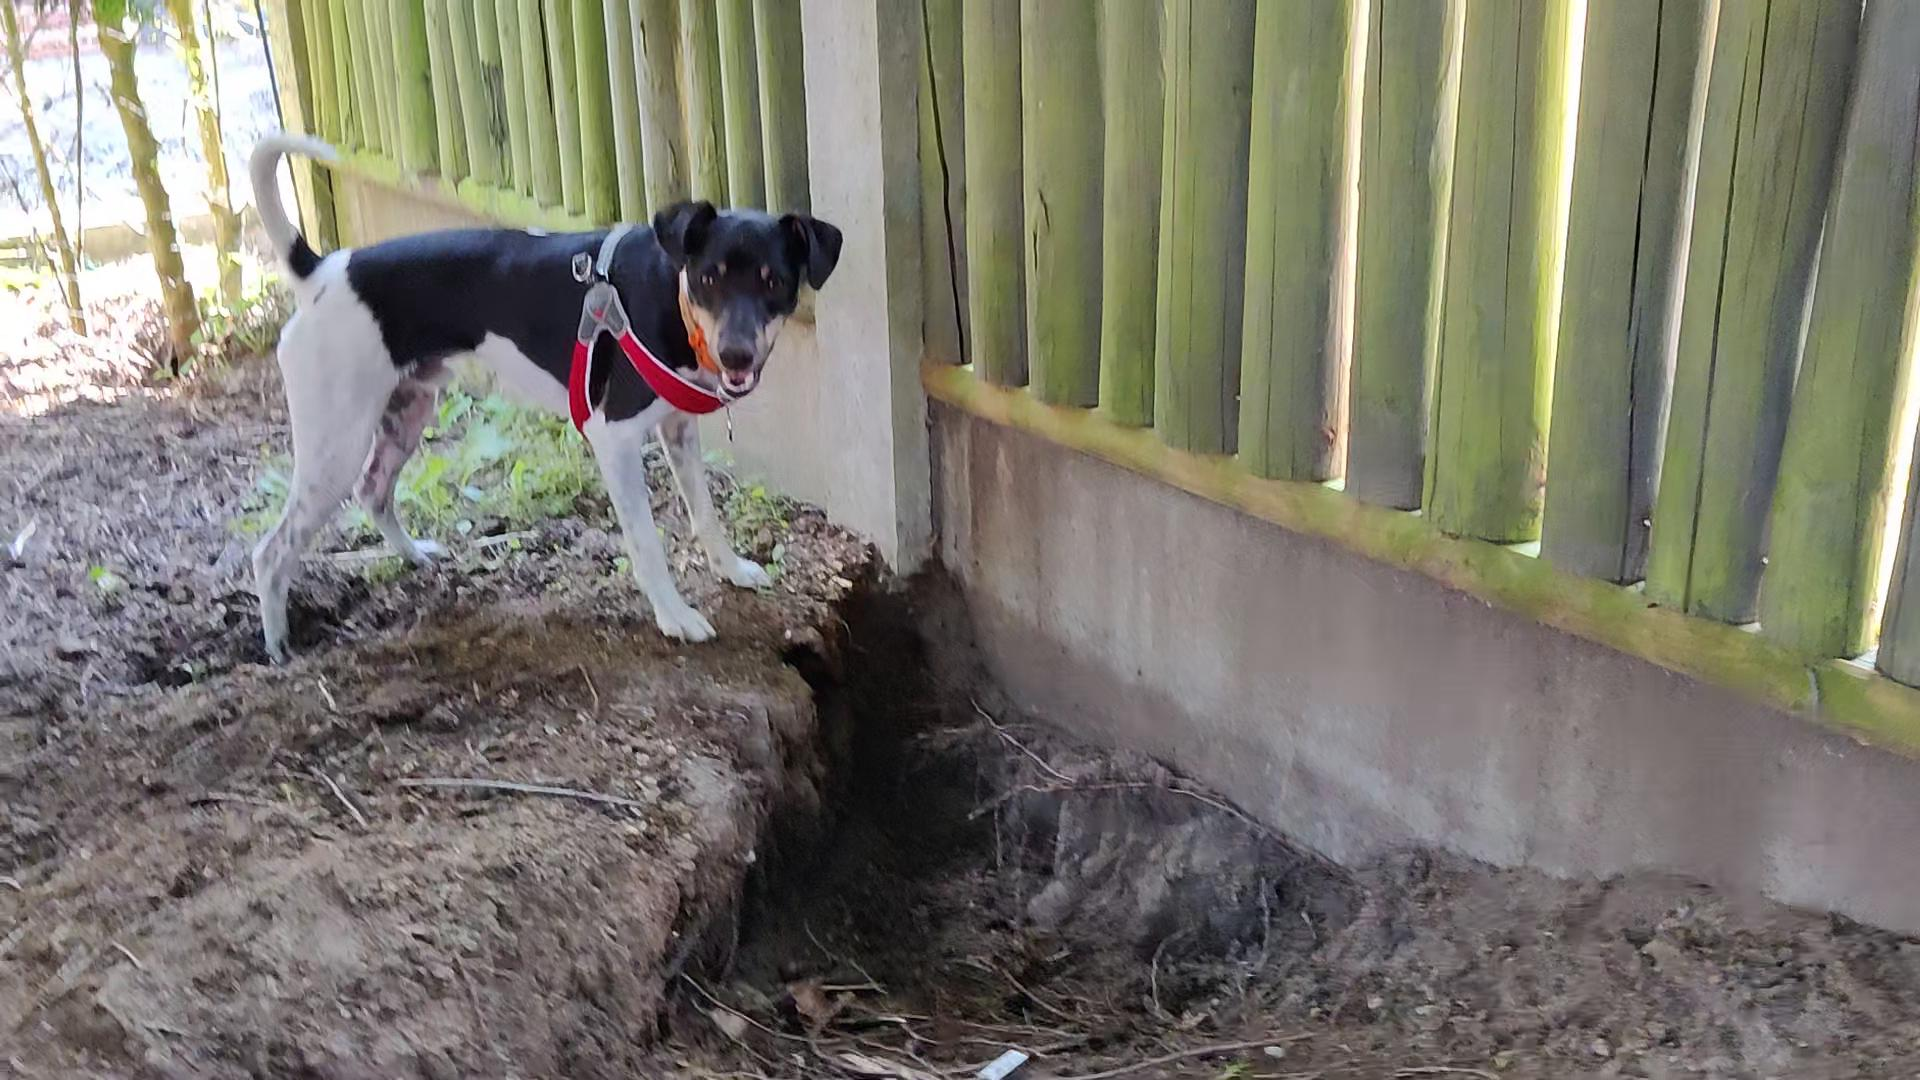Dog: (237, 112, 851, 659)
